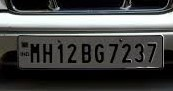numberplate: (17, 34, 164, 71)
